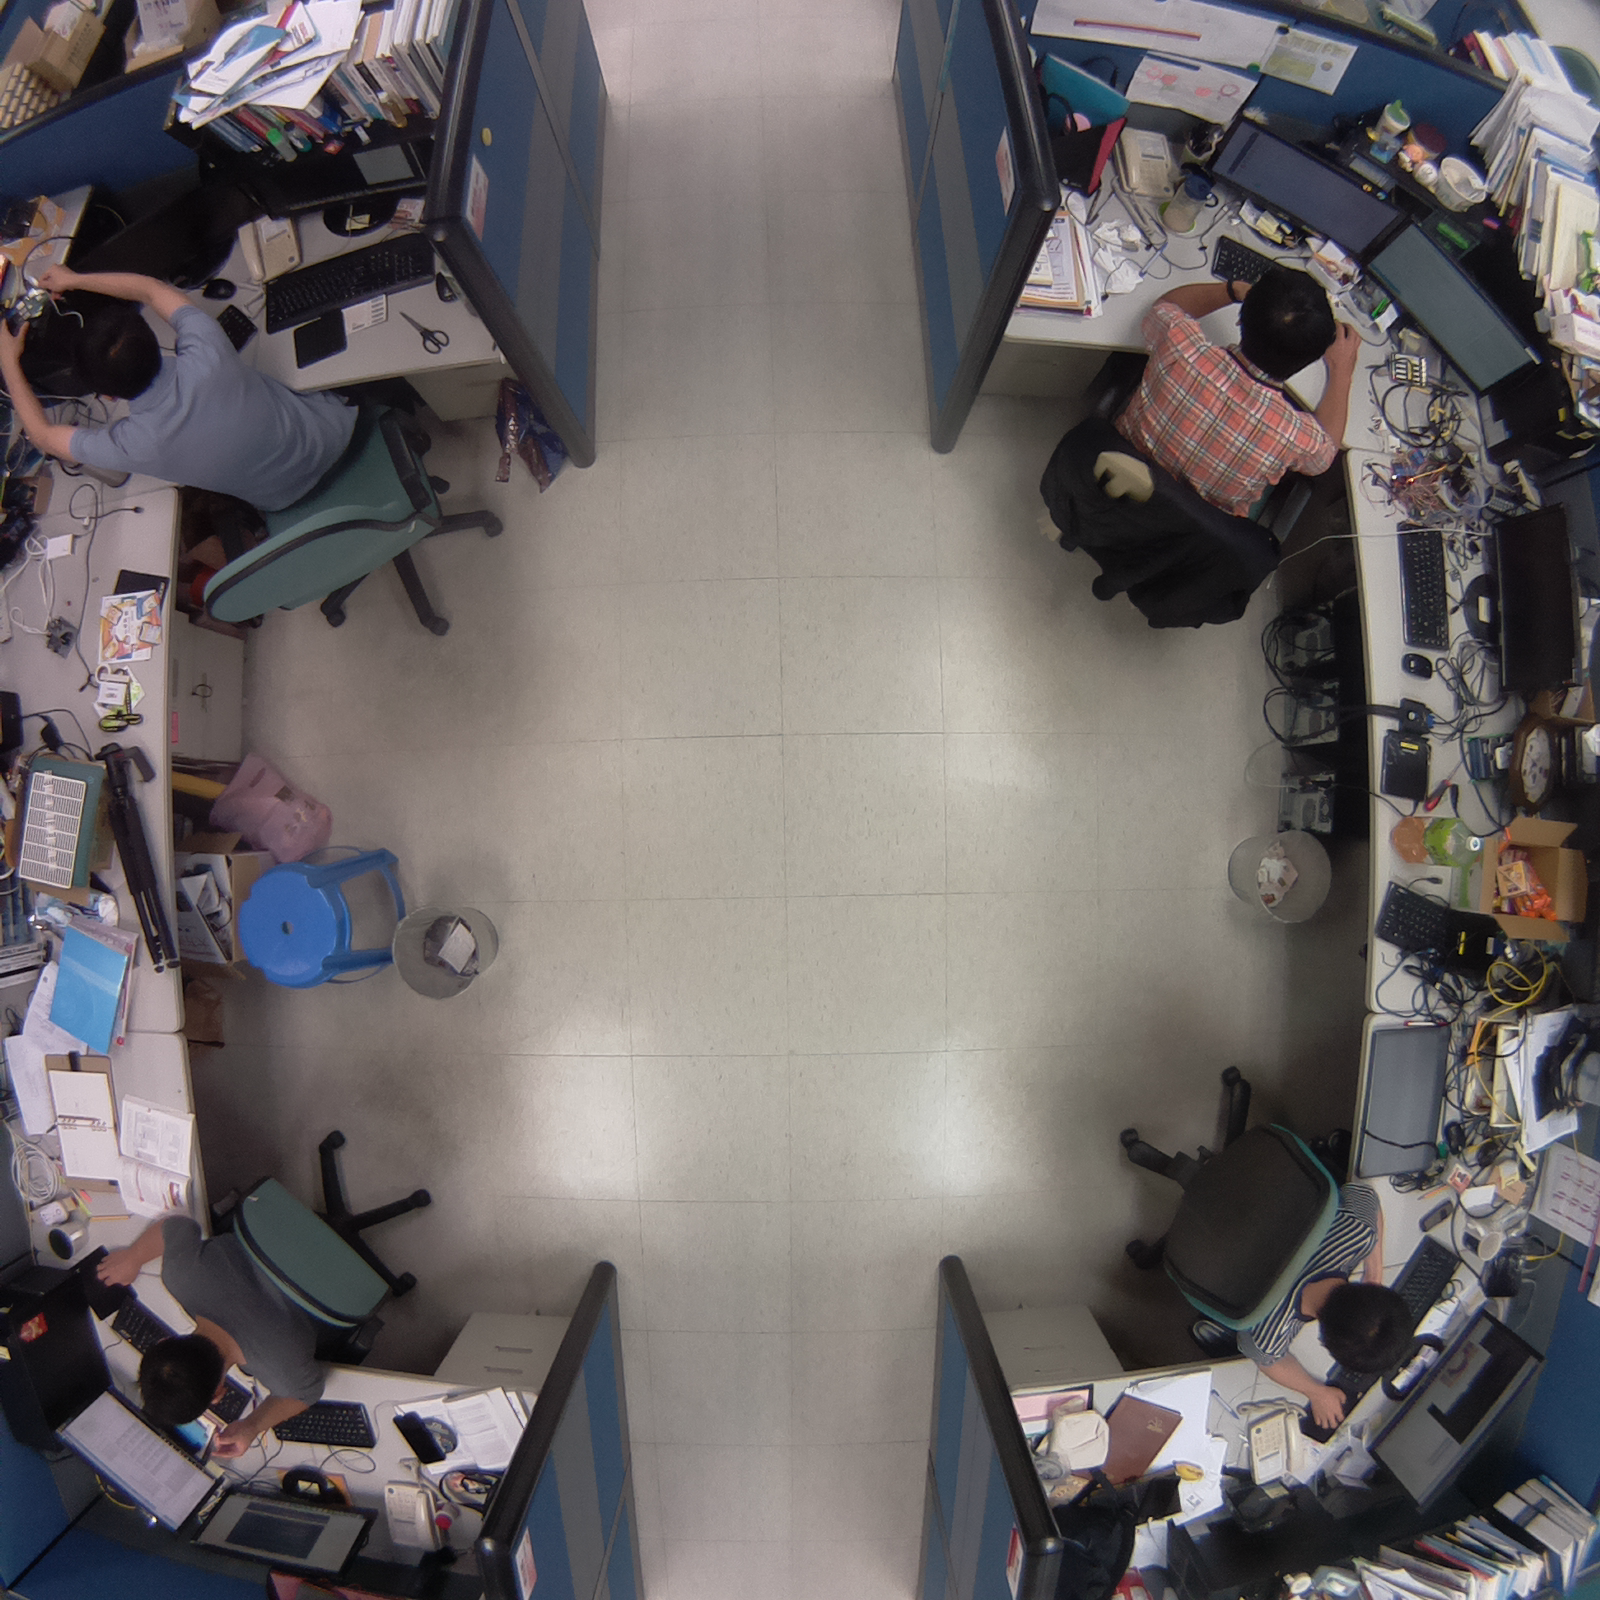head: (1231, 256, 1343, 383), (1314, 1268, 1423, 1389), (52, 291, 167, 401), (130, 1324, 234, 1436)
sitting: (1, 244, 517, 652), (1019, 247, 1370, 650), (1101, 1052, 1433, 1435), (82, 1114, 437, 1463)
